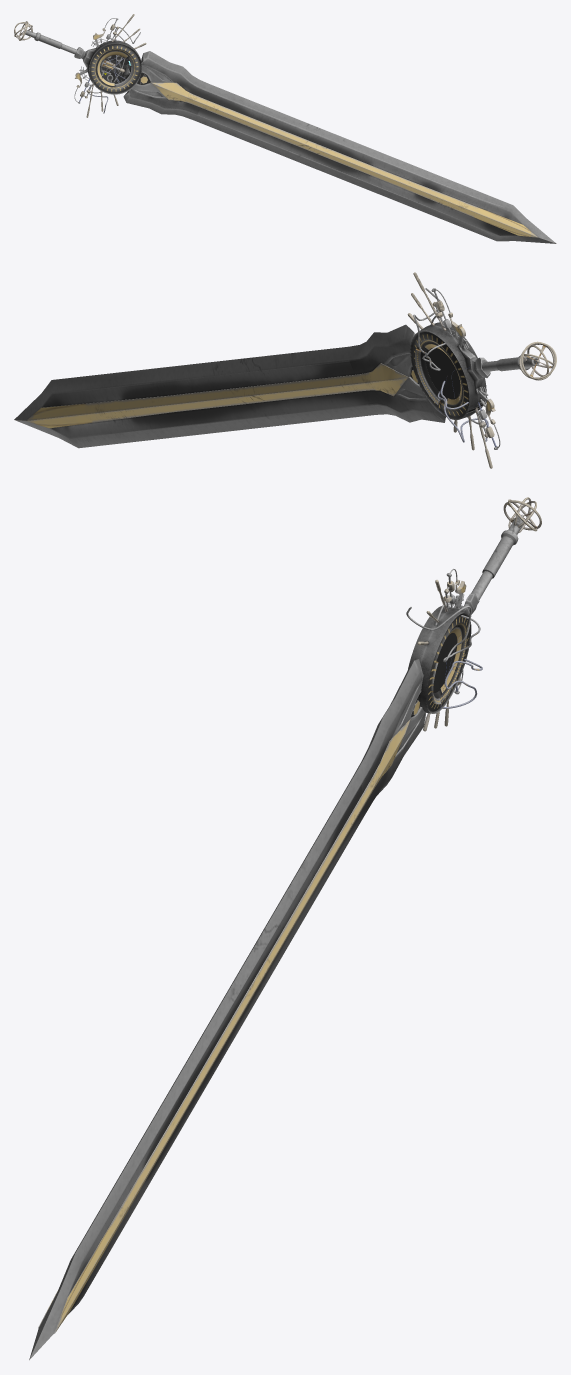
3 views of the same model, one above another, from view 1: azimuth 30°, elevation 25°; view 2: azimuth 150°, elevation 25°; view 3: azimuth 270°, elevation 25° (orthographic). The views are drawn at different scales.
Parts seen in each view (by area): view 1: SteampunkSword; view 2: SteampunkSword; view 3: SteampunkSword.
Boxes of the visible parts, x1=… form: SteampunkSword: x1=14, y1=14, x2=556, y2=243; SteampunkSword: x1=14, y1=272, x2=556, y2=468; SteampunkSword: x1=29, y1=497, x2=541, y2=1360.
Size of the model in its own units: 11.67 by 6.22 by 6.19.
Materials: 1 (1 with a texture image).
